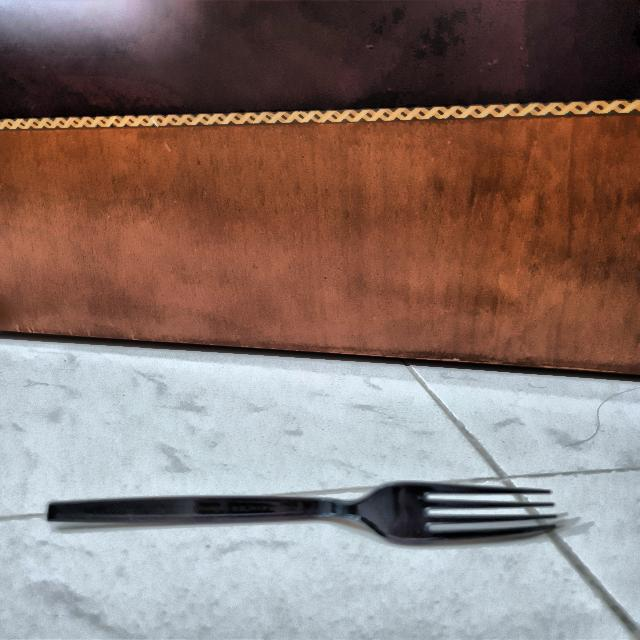plastic utensil: (43, 481, 568, 545)
